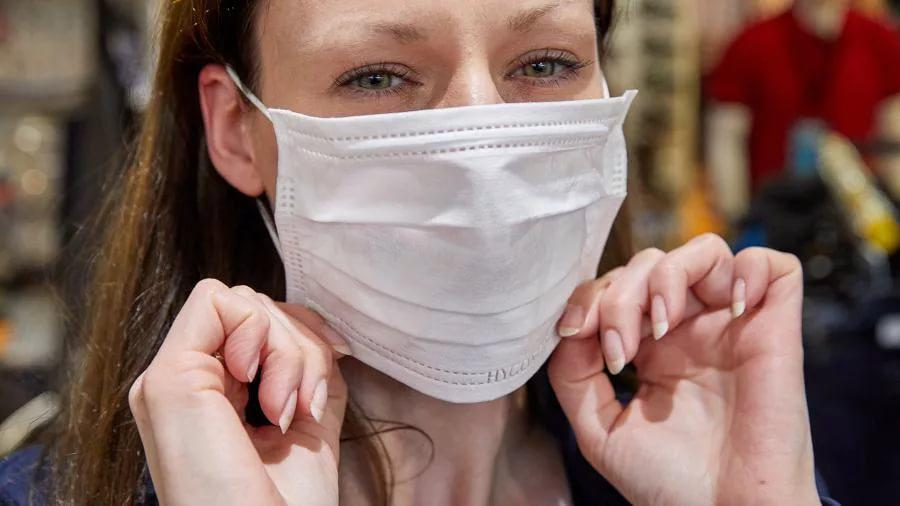mask: (247, 1, 635, 400)
